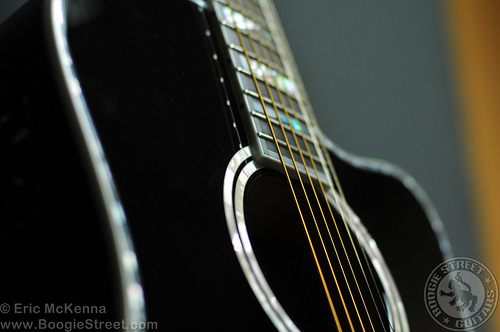guitar: (1, 1, 467, 332)
